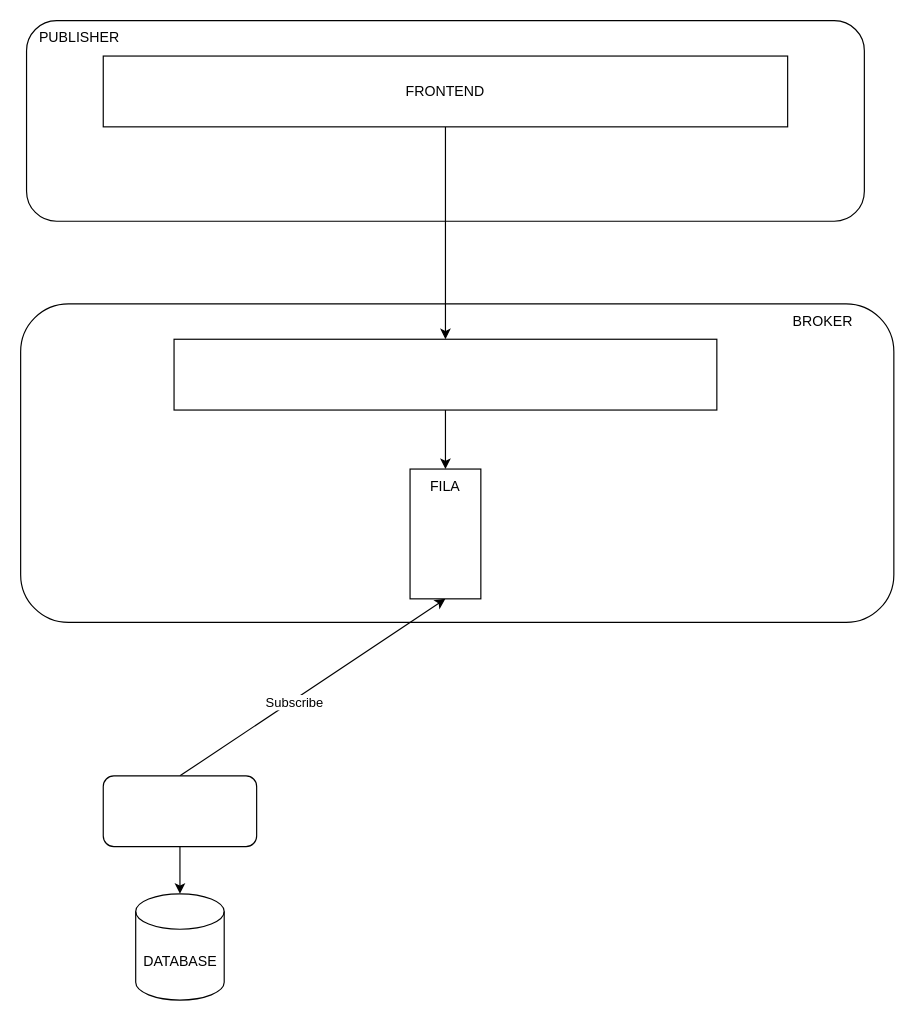
Some shapes in this 914 by 1021 pixel diagram are drawn without their labels. The centre of each missing label's shape, as x and y in pixels:
"BACKEND Service" goes at pixel 179 811.
"EXCHANGE" goes at pixel 445 374.
